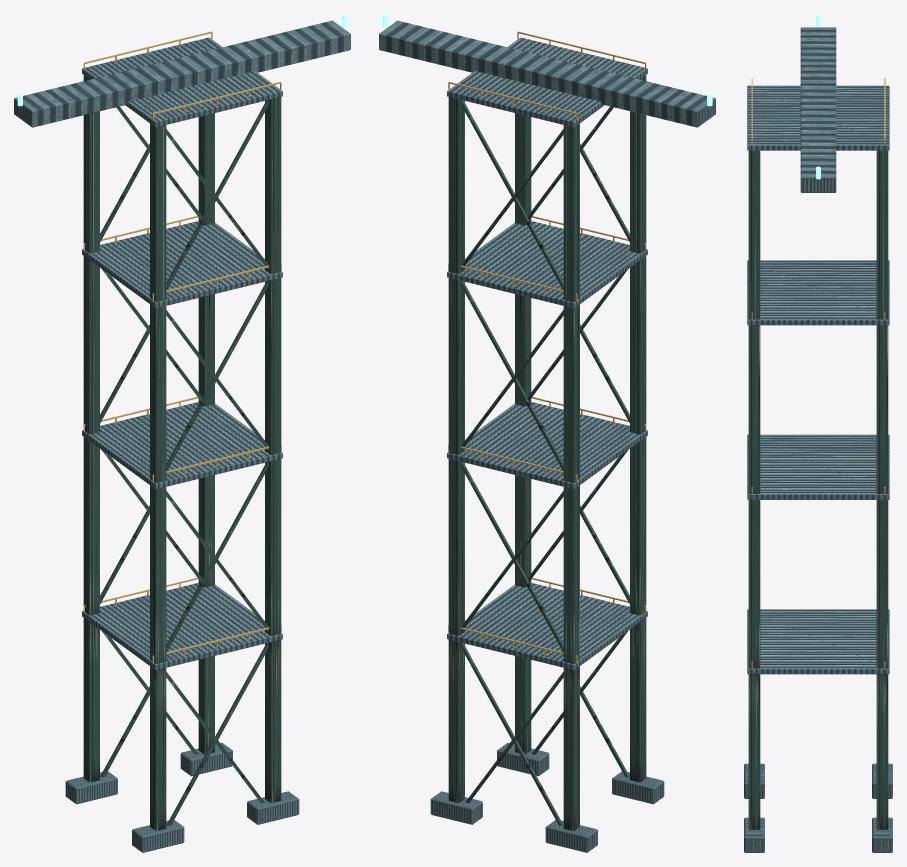
Rendered from gantryTower.glb.
3 views of the same model, side by side, from view 1: azimuth 30°, elevation 25°; view 2: azimuth 150°, elevation 25°; view 3: azimuth 270°, elevation 25° (orthographic). The views are drawn at different scales.
Parts seen in each view (by area): view 1: Leg.0.1, Leg.1.1, TopBridge, Leg.0.0, Deck.2, Deck.3, Deck.1, Leg.1.0, Deck.4, Foot.1.1, Foot.0.1, Foot.0.0 (+9 smaller); view 2: Leg.0.0, Leg.1.0, TopBridge, Leg.0.1, Deck.2, Deck.3, Deck.1, Leg.1.1, Deck.4, Foot.1.0, Foot.0.0, Foot.0.1 (+9 smaller); view 3: Leg.1.0, Leg.1.1, Deck.1, Deck.3, Deck.2, Deck.4, TopBridge, Foot.1.0, Foot.1.1, Foot.0.0, Foot.0.1.
Boxes of the visible parts, bbox=[...] form: Leg.0.1: bbox=[150, 123, 166, 831]; Leg.1.1: bbox=[265, 97, 281, 802]; TopBridge: bbox=[14, 20, 350, 127]; Leg.0.0: bbox=[83, 75, 99, 782]; Deck.2: bbox=[82, 402, 282, 489]; Deck.3: bbox=[82, 221, 282, 308]; Deck.1: bbox=[82, 583, 282, 670]; Leg.1.0: bbox=[198, 113, 214, 754]; Deck.4: bbox=[82, 37, 282, 127]; Foot.1.1: bbox=[247, 791, 299, 824]; Foot.0.1: bbox=[132, 820, 184, 852]; Foot.0.0: bbox=[65, 771, 117, 804]; Leg.0.0: bbox=[563, 123, 579, 831]; Leg.1.0: bbox=[448, 97, 464, 802]; TopBridge: bbox=[379, 20, 715, 127]; Leg.0.1: bbox=[630, 75, 646, 782]; Deck.2: bbox=[447, 402, 647, 489]; Deck.3: bbox=[447, 221, 647, 308]; Deck.1: bbox=[447, 583, 647, 670]; Leg.1.1: bbox=[515, 113, 531, 754]; Deck.4: bbox=[447, 37, 647, 127]; Foot.1.0: bbox=[430, 791, 482, 824]; Foot.0.0: bbox=[545, 820, 597, 852]; Foot.0.1: bbox=[612, 771, 664, 804]; Leg.1.0: bbox=[876, 150, 888, 829]; Leg.1.1: bbox=[748, 150, 760, 829]; Deck.1: bbox=[747, 609, 889, 674]; Deck.3: bbox=[747, 260, 889, 325]; Deck.2: bbox=[747, 434, 889, 499]; Deck.4: bbox=[747, 85, 889, 150]; TopBridge: bbox=[800, 27, 836, 192]; Foot.1.0: bbox=[872, 817, 892, 852]; Foot.1.1: bbox=[744, 817, 764, 852]; Foot.0.0: bbox=[872, 763, 892, 798]; Foot.0.1: bbox=[744, 763, 764, 798].
Size of what is drawn, in the model's own units: 61.78 by 135 by 25.1.
5 materials, 3 textured.
